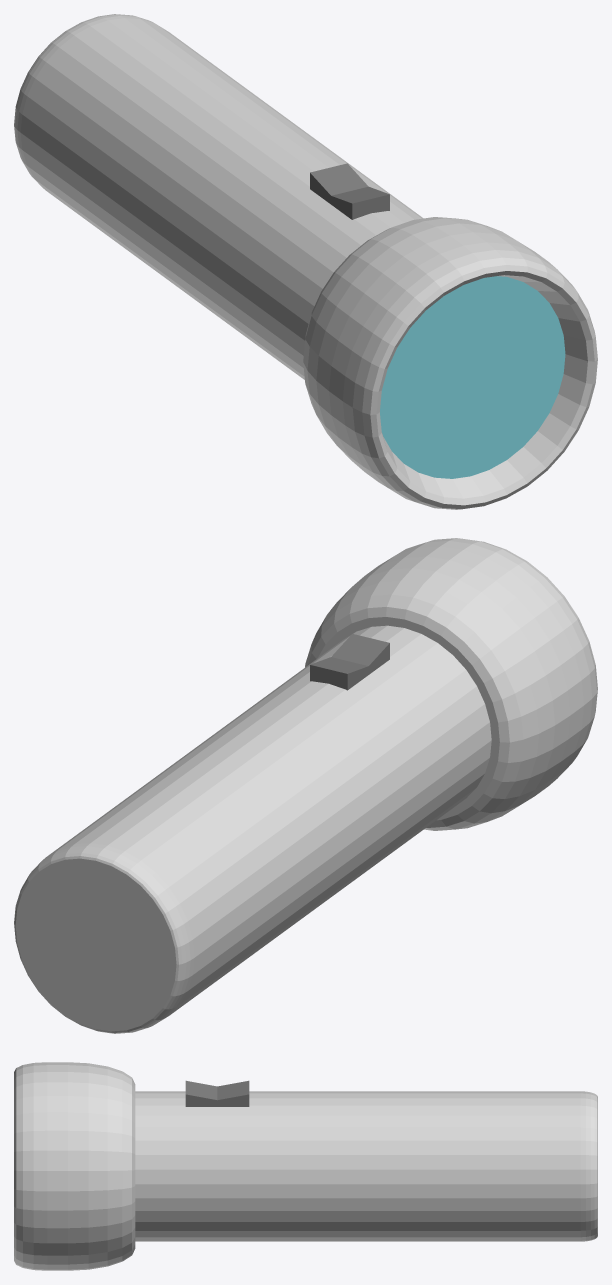
File: FlashLight_ODS.fbx
3 views of the same model, one above another, from view 1: azimuth 30°, elevation 25°; view 2: azimuth 150°, elevation 25°; view 3: azimuth 270°, elevation 25° (orthographic). The views are drawn at different scales.
Parts seen in each view (by area): view 1: Cylinder, Cylinder.003, Cylinder.001; view 2: Cylinder, Cylinder.001; view 3: Cylinder, Cylinder.001.
Part boxes in pixels (left/top/right/bottom): Cylinder: left=14, top=14, right=597, bottom=509; Cylinder.003: left=380, top=276, right=565, bottom=478; Cylinder.001: left=310, top=163, right=389, bottom=219; Cylinder: left=14, top=538, right=597, bottom=1033; Cylinder.001: left=310, top=634, right=389, bottom=690; Cylinder: left=14, top=1062, right=597, bottom=1270; Cylinder.001: left=185, top=1080, right=249, bottom=1106.
Size of the model in its own units: 90.25 by 90.25 by 252.
